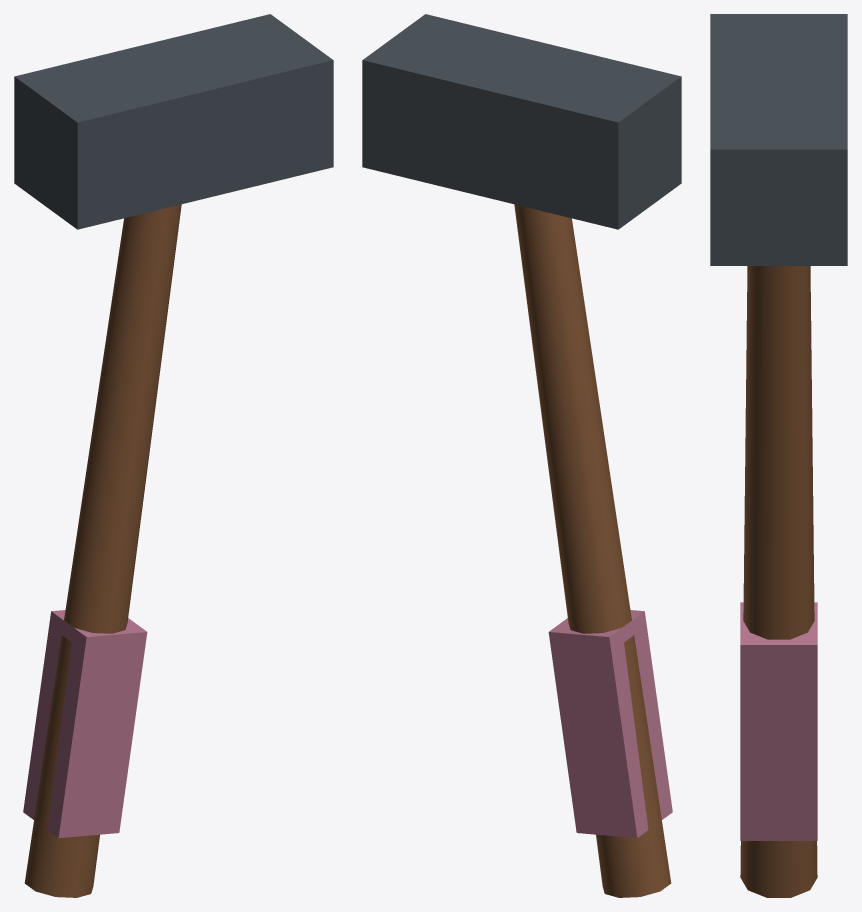
The model's file is tool_hammer.glb.
3 views of the same model, side by side, from view 1: azimuth 30°, elevation 25°; view 2: azimuth 150°, elevation 25°; view 3: azimuth 270°, elevation 25° (orthographic). The views are drawn at different scales.
Visible parts, largest first — view 1: head, handle, grip_wrap; view 2: head, handle, grip_wrap; view 3: head, handle, grip_wrap.
Boxes of the visible parts, x1,y1,x2,y2 form: head: (14,14,333,229); handle: (24,204,181,897); grip_wrap: (23,610,147,837); head: (362,14,681,229); handle: (514,204,671,897); grip_wrap: (548,610,672,837); head: (710,14,847,265); handle: (740,266,817,897); grip_wrap: (740,602,817,840).
Size of what is drawn, in the model's own units: 0.7965 by 2.22 by 0.32.
